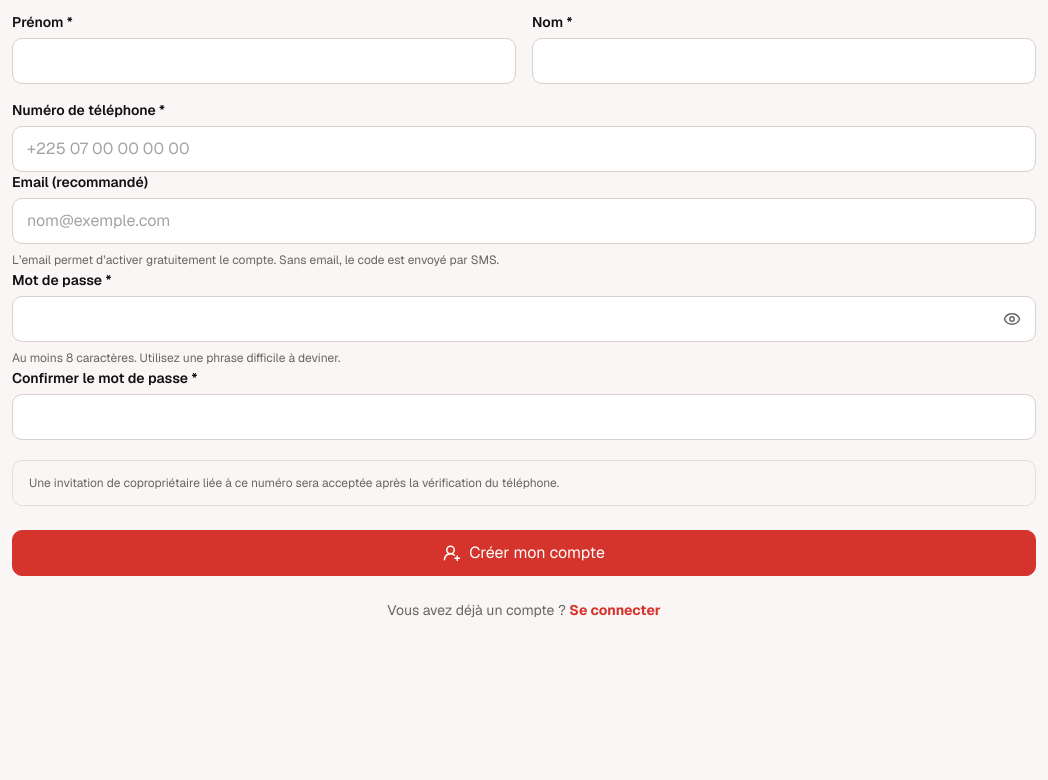
RegisterForm › shows verification form when registration requires verification
In the field labelled "Prénom *": (264, 61) [12, 38, 516, 84], type "Jean"
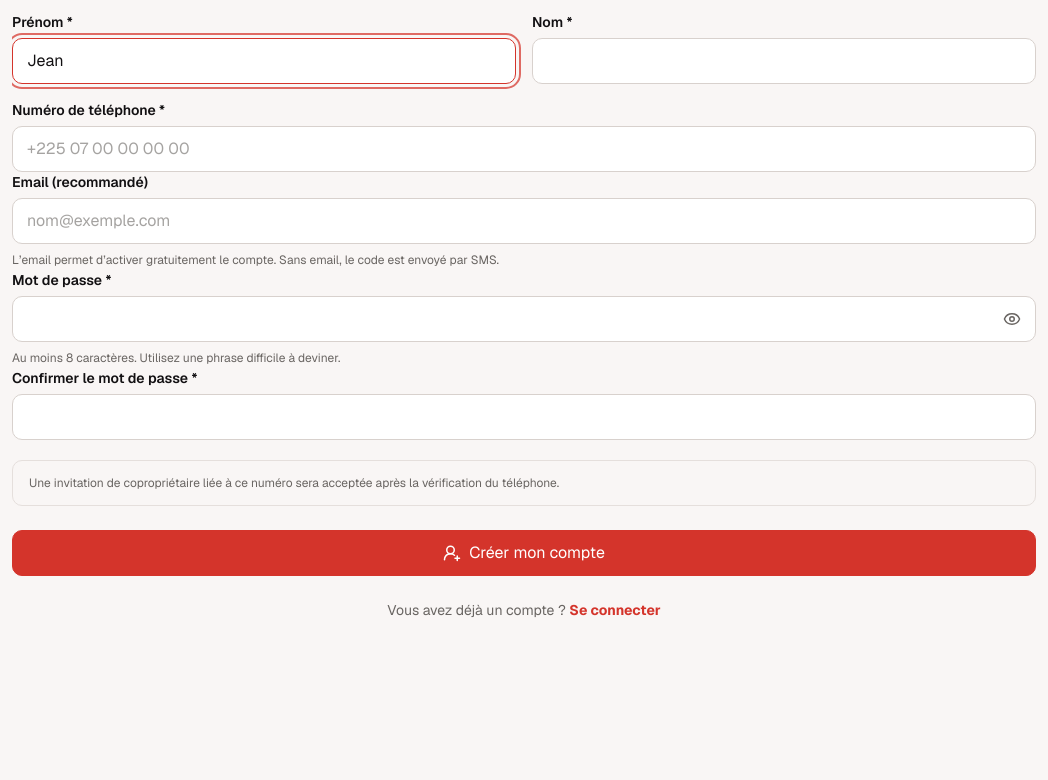
In the field labelled "Nom *": (784, 61) [532, 38, 1036, 84], type "Dupont"
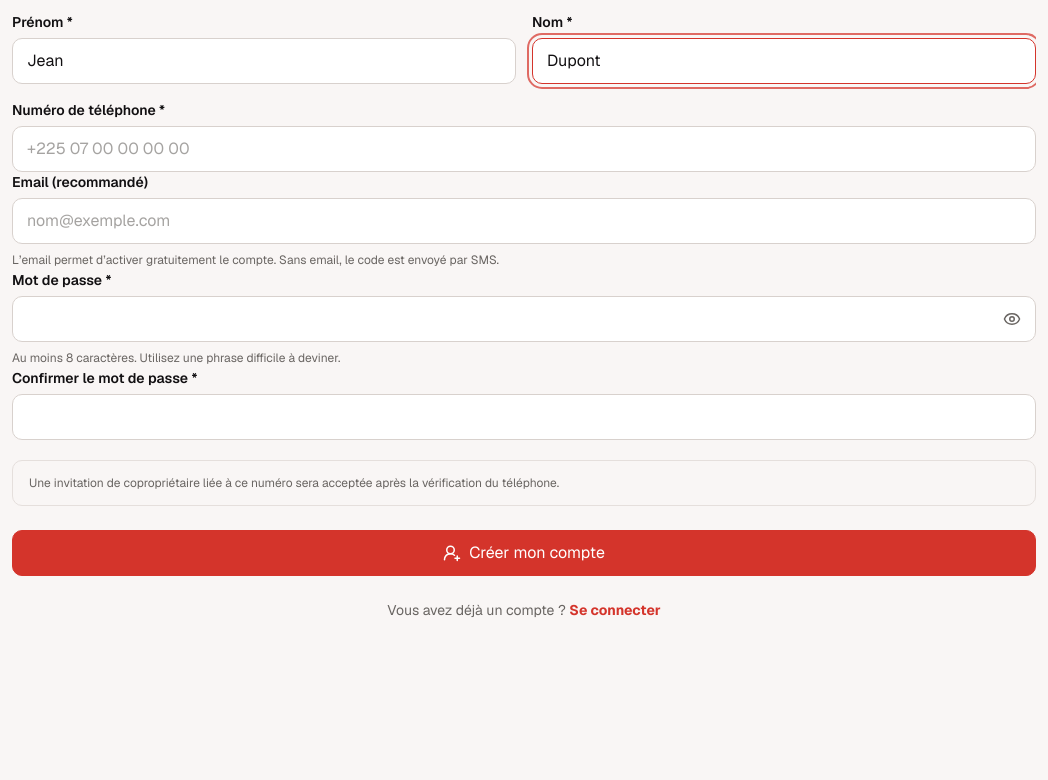
In the field labelled "Numéro de téléphone *": (524, 149) [12, 126, 1036, 172], type "+22507000000"
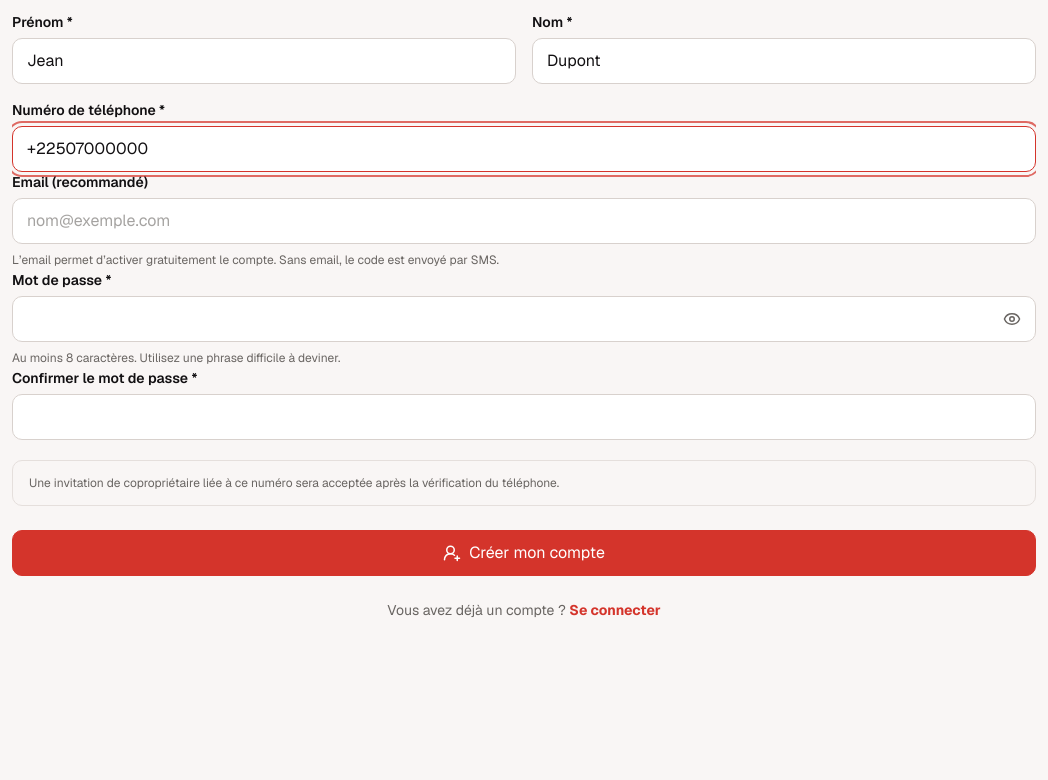
In the 1st password field: (524, 319) [12, 296, 1036, 342], type "secret123"
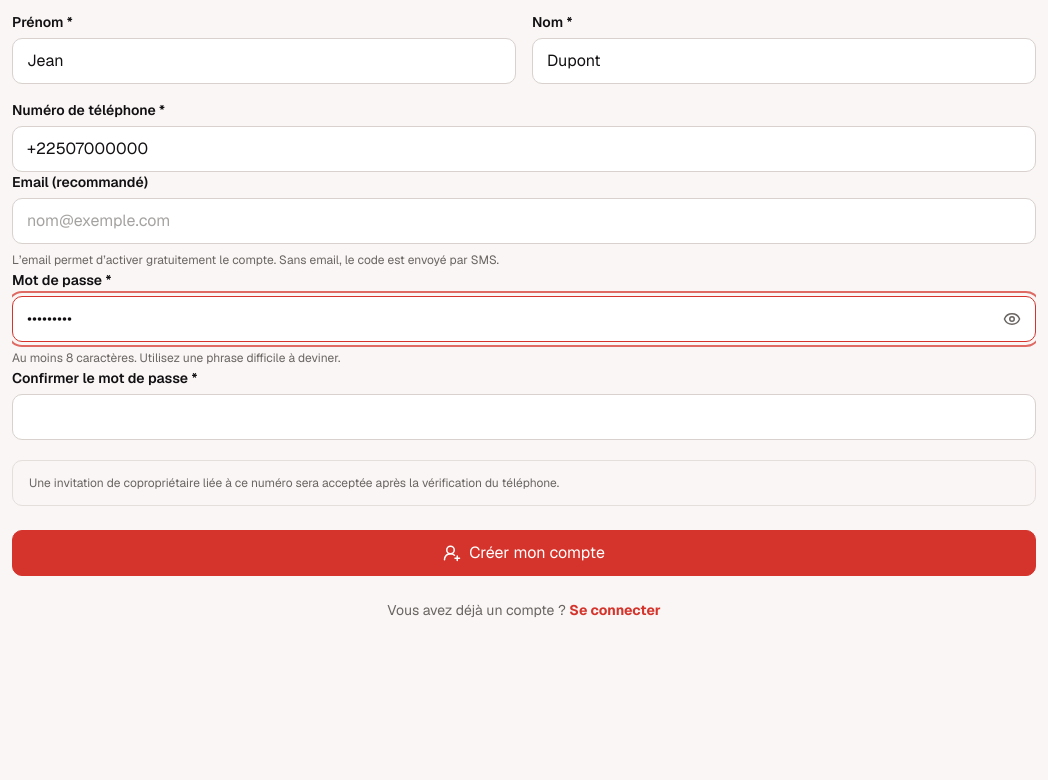
In the password field labelled "Confirmer le mot de passe *": (524, 417) [12, 394, 1036, 440], type "secret123"
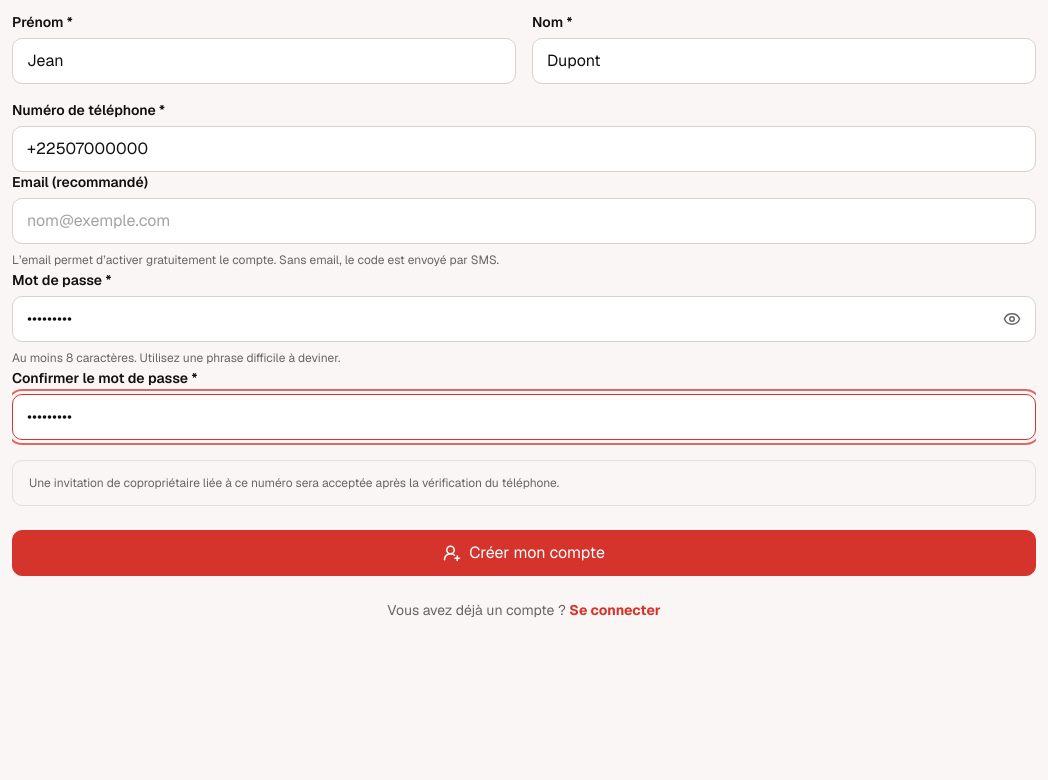
Click the button "Créer mon compte": click(524, 553) [12, 530, 1036, 576]
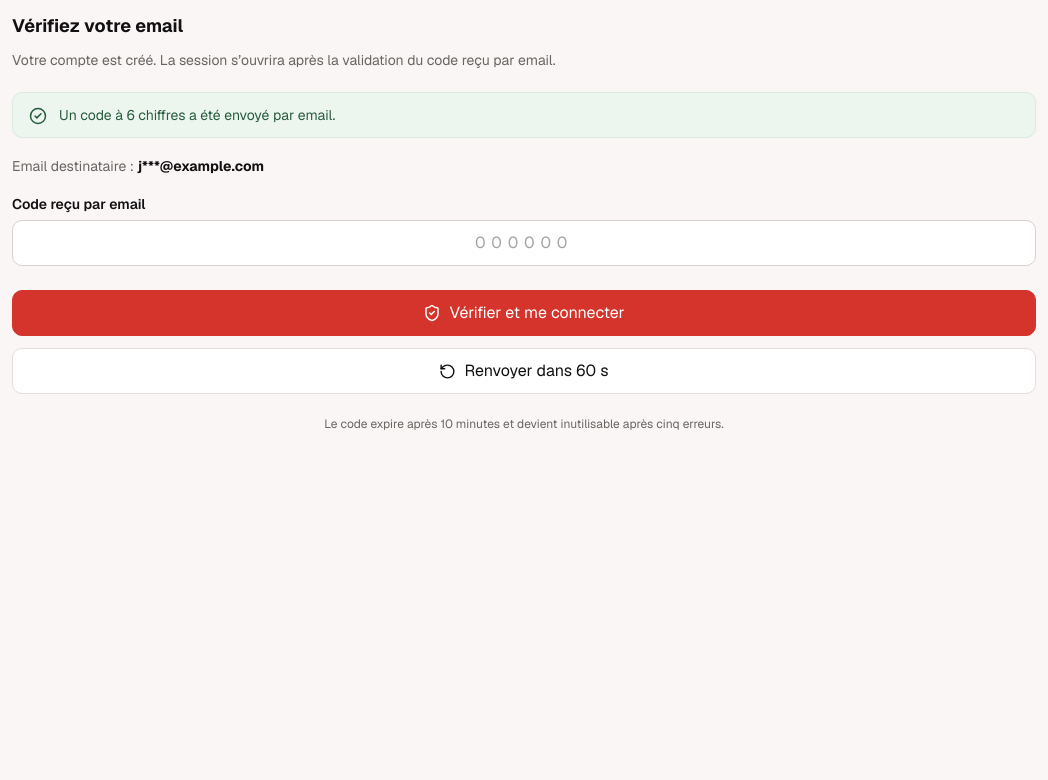
Check: the heading "Vérifiez votre email" is shown, box [12, 14, 183, 37]
